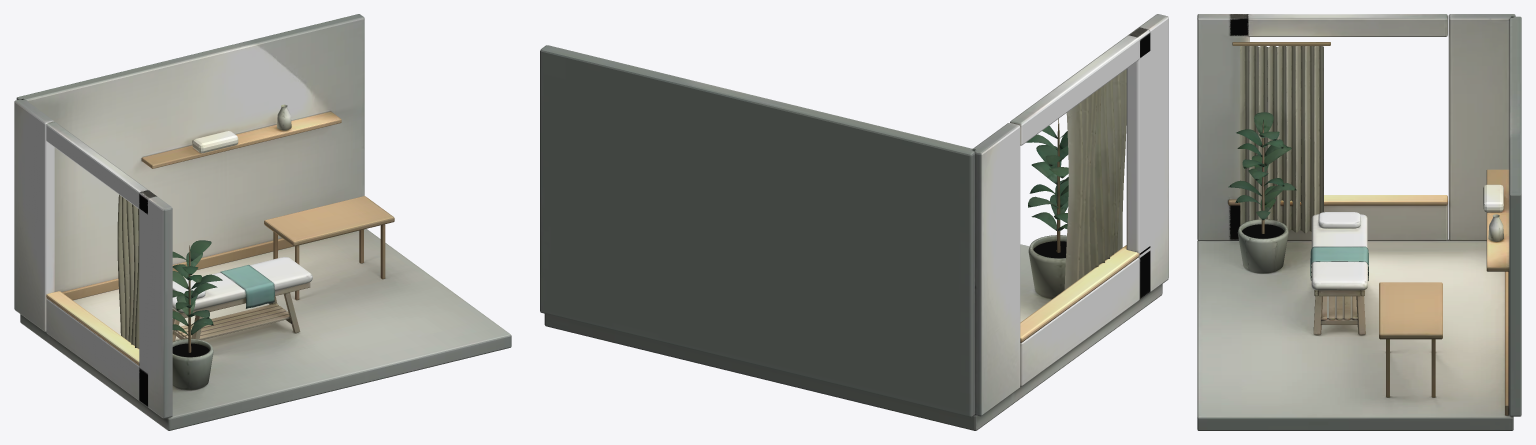
Rendered from sala.high.glb.
3 views of the same model, side by side, from view 1: azimuth 30°, elevation 25°; view 2: azimuth 150°, elevation 25°; view 3: azimuth 270°, elevation 25° (orthographic). The views are drawn at different scales.
Visible parts, largest first — view 1: Sala_camilla, Cortina_lino; view 2: Sala_camilla, Cortina_lino; view 3: Sala_camilla, Cortina_lino.
Part boxes in pixels (x1,y1,x2,y2): Sala_camilla: (14,14,511,430); Cortina_lino: (117,194,139,348); Sala_camilla: (540,14,1168,430); Cortina_lino: (1064,69,1126,289); Sala_camilla: (1197,14,1521,430); Cortina_lino: (1240,46,1323,233).
Bounding box in the file's own units: 4.87 × 2.98 × 3.69.
Materials: 1 (1 with a texture image).
